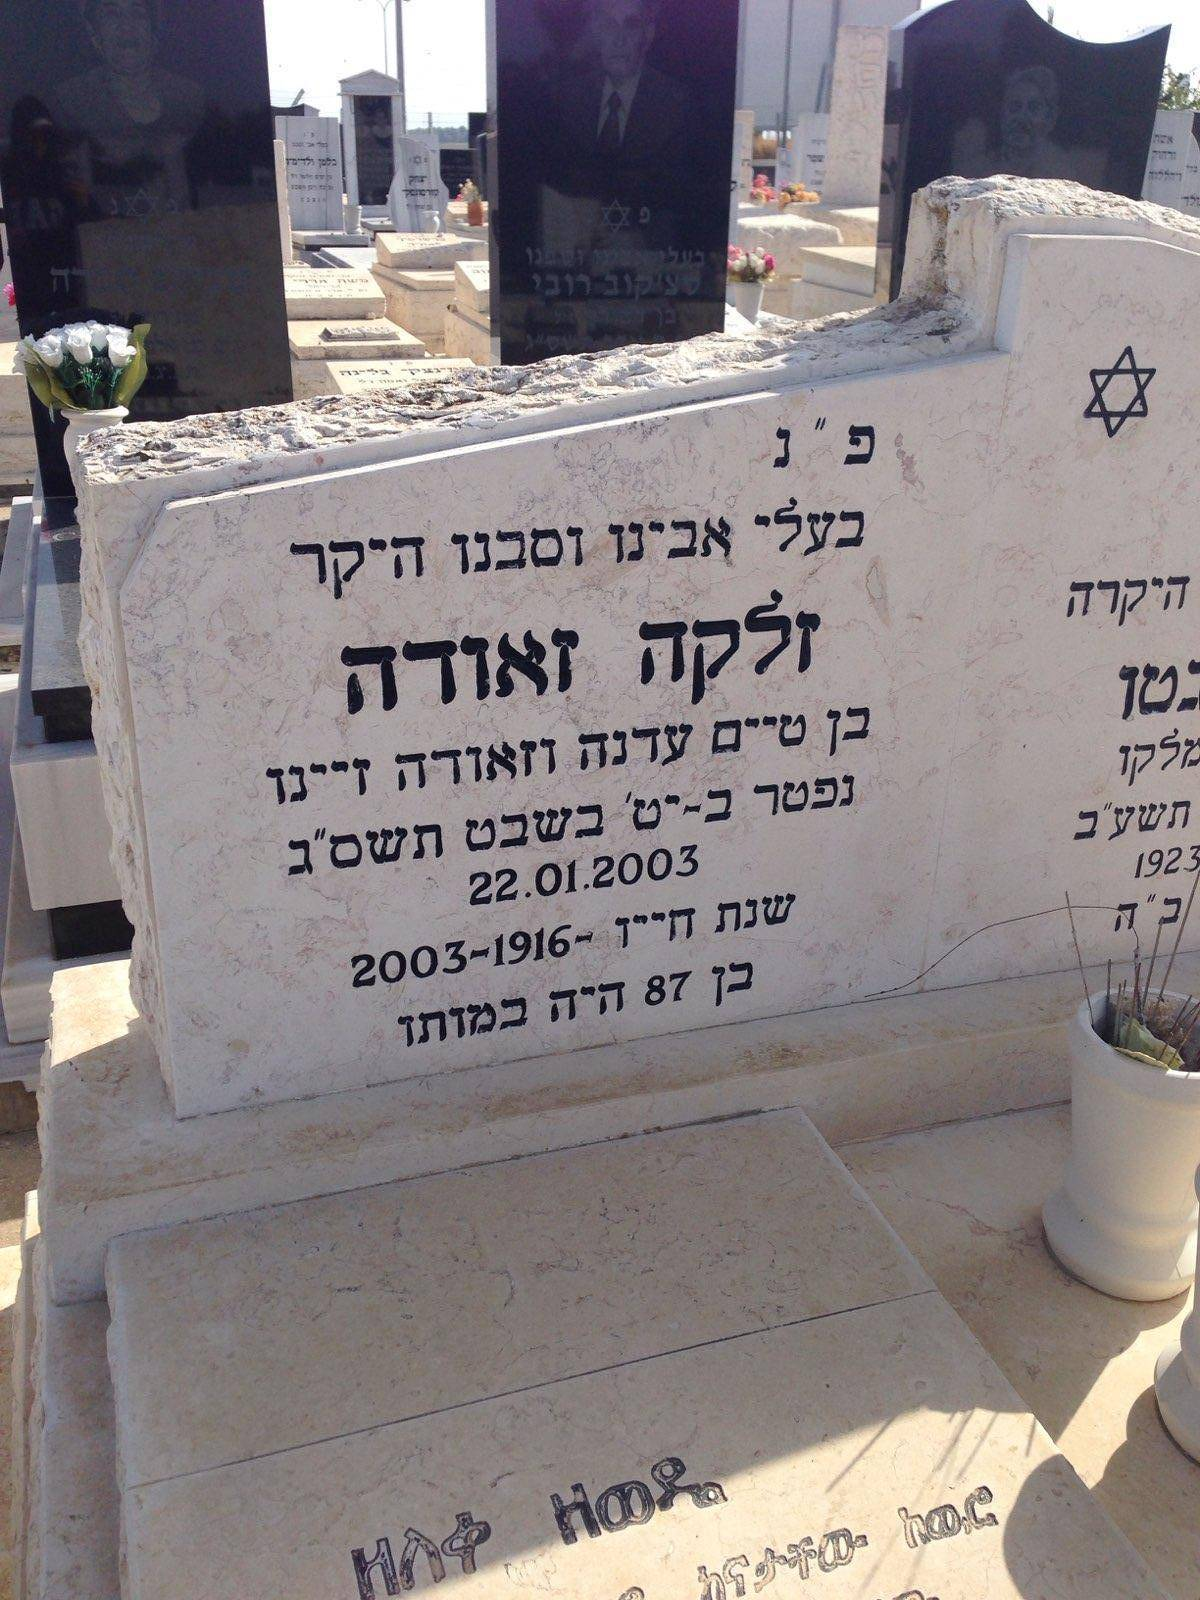upright: (45, 276, 1037, 1231)
